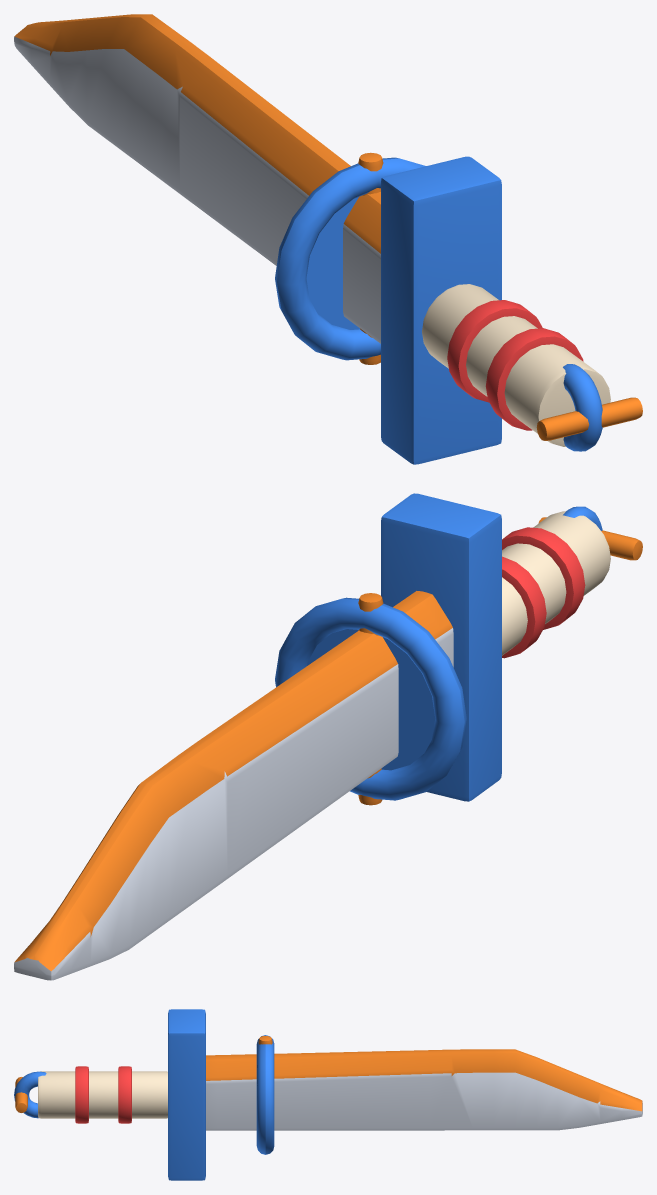
The model's file is Sword_PitShiv.glb.
3 views of the same model, one above another, from view 1: azimuth 30°, elevation 25°; view 2: azimuth 150°, elevation 25°; view 3: azimuth 270°, elevation 25° (orthographic). The views are drawn at different scales.
Parts seen in each view (by area): view 1: Sword_PitShiv; view 2: Sword_PitShiv; view 3: Sword_PitShiv.
Boxes of the visible parts, <box> form: Sword_PitShiv: <box>14,14,642,464</box>; Sword_PitShiv: <box>14,493,642,980</box>; Sword_PitShiv: <box>14,1009,642,1180</box>.
Size of the model in its own units: 0.192 by 0.26 by 1.
1 material, 1 textured.
